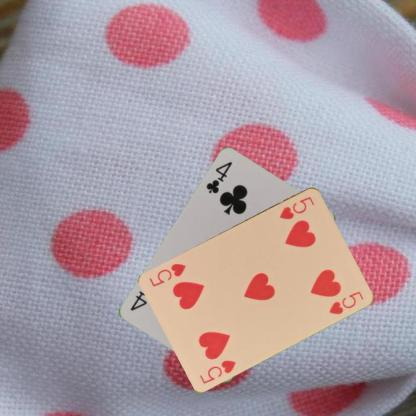4c: (203, 159, 234, 196)
5h: (197, 356, 238, 385), (277, 194, 315, 221)
